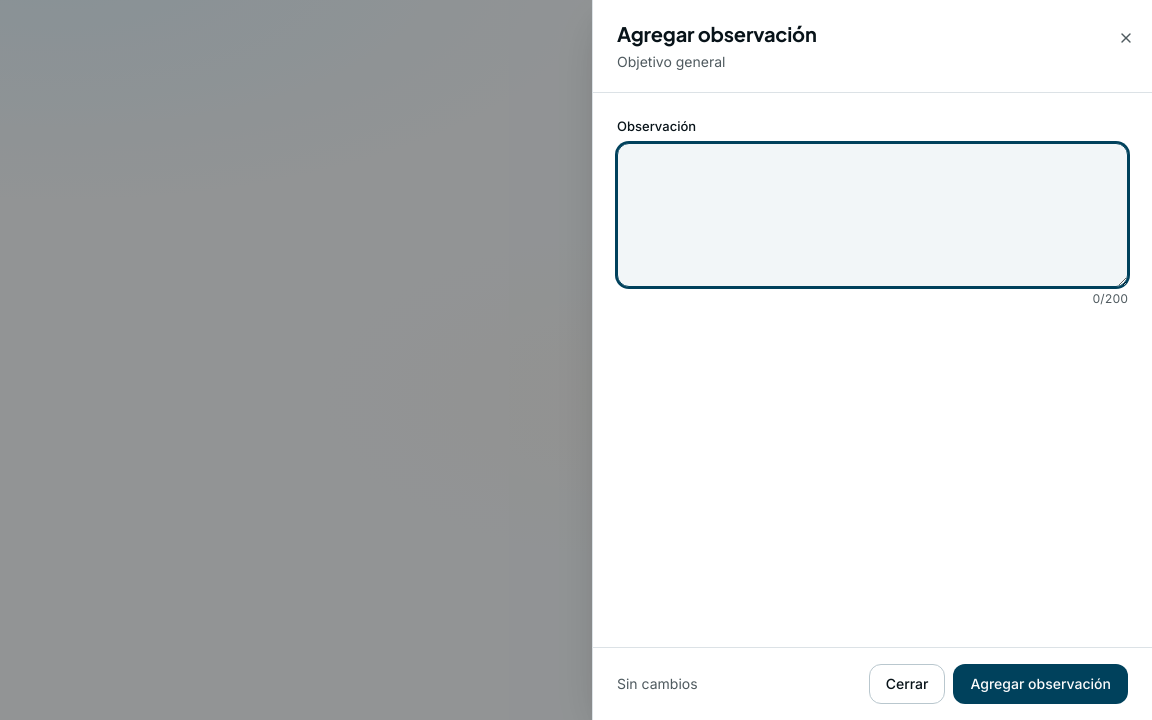
Test: AgregarObservacionItemPanel › cancelar con texto escrito pide confirmar el descarte
In the text box labelled "Observación": {"x": 872, "y": 214} [617,142,1128,286], type "Texto"
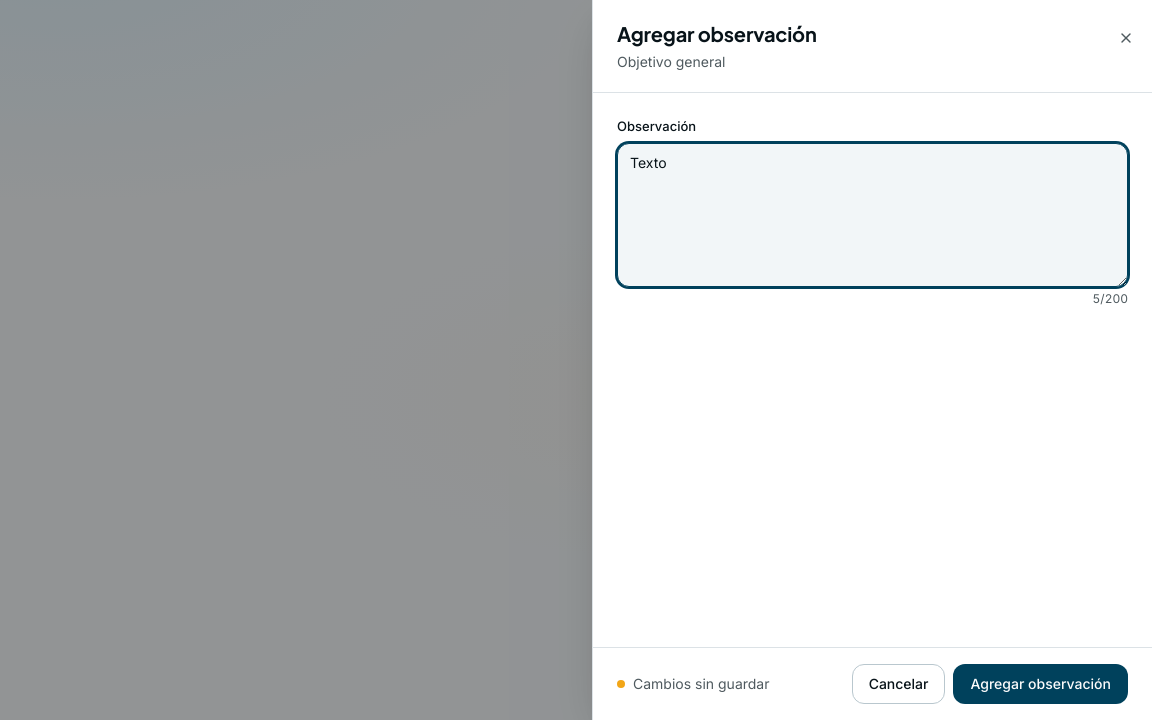
Click the button "Cancelar": {"x": 898, "y": 684} [852,664,945,704]
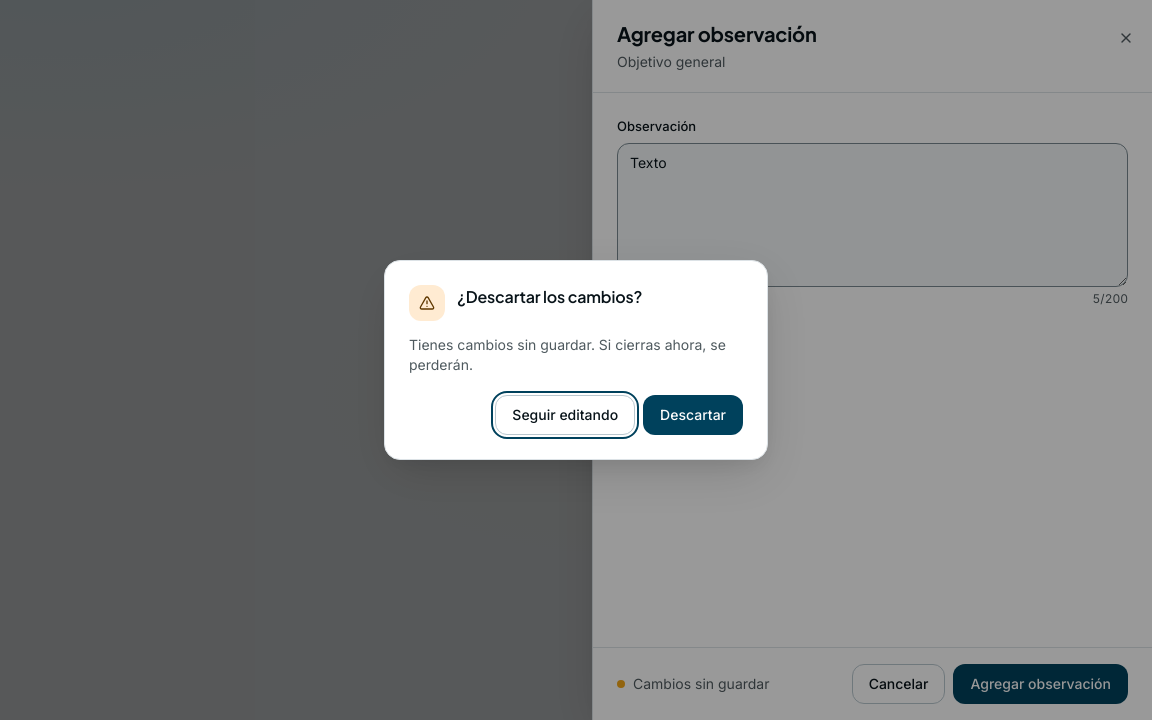
Result: the heading "¿Descartar los cambios?" is shown at [457,285,642,309]
